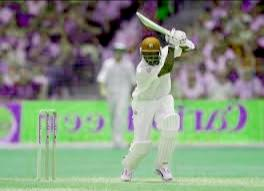batsman: (103, 7, 203, 191)
